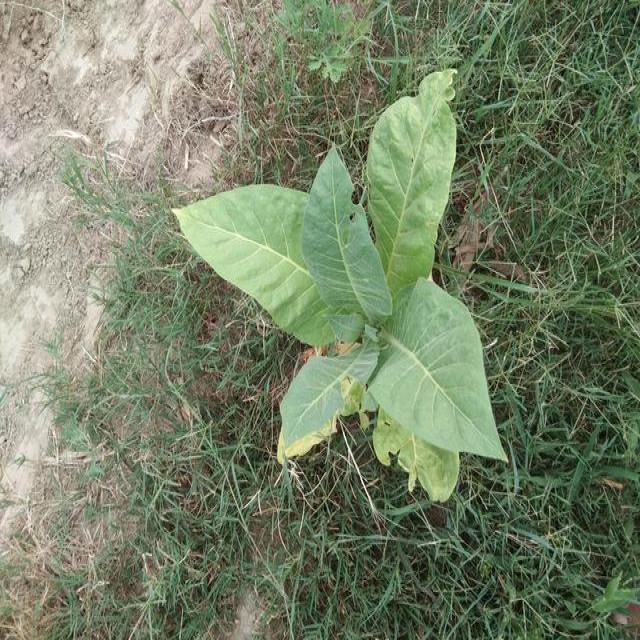crop: (172, 74, 516, 518)
